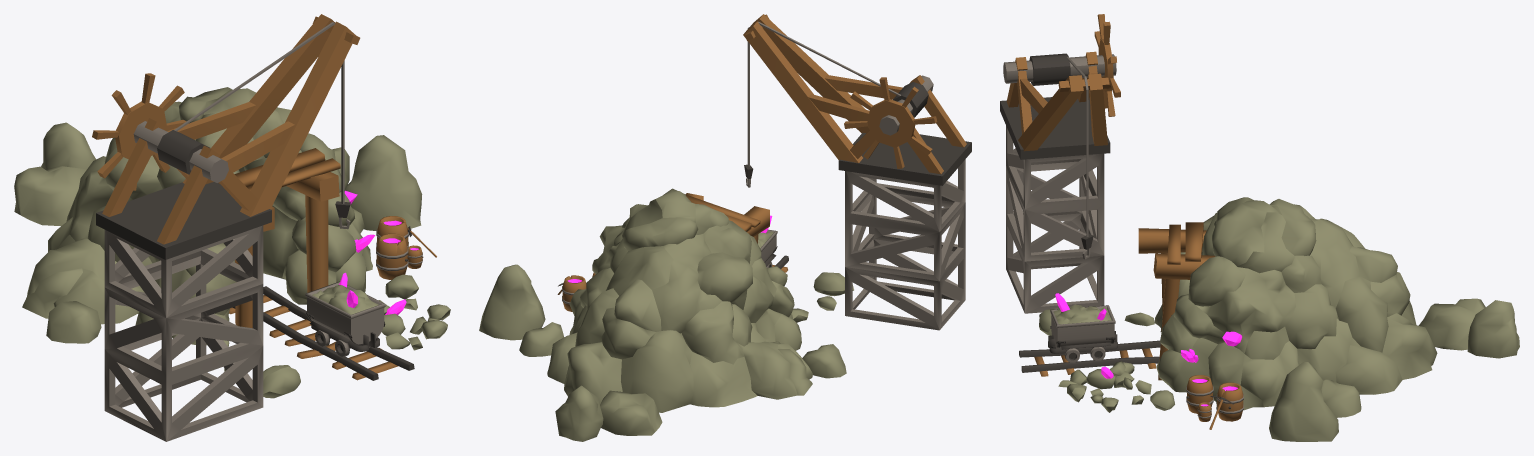
The model's file is cave.fbx.
3 views of the same model, side by side, from view 1: azimuth 30°, elevation 25°; view 2: azimuth 150°, elevation 25°; view 3: azimuth 270°, elevation 25° (orthographic). The views are drawn at different scales.
Parts seen in each view (by area): view 1: cave_crane, cave_entrance, cave_env, cave_shaft, barrel, crystals; view 2: cave_entrance, cave_crane, cave_env, cave_shaft, barrel; view 3: cave_entrance, cave_crane, cave_env, cave_shaft, barrel, crystals.
Part boxes in pixels (x1,y1,x2,y2): cave_crane: (92,14,360,441); cave_entrance: (14,87,450,398); cave_env: (218,148,414,380); cave_shaft: (305,272,385,356); barrel: (376,216,423,279); crystals: (344,190,406,314); cave_entrance: (479,188,853,441); cave_crane: (743,14,971,330); cave_env: (685,193,788,272); cave_shaft: (758,215,777,267); barrel: (562,272,595,311); cave_entrance: (1039,197,1519,441); cave_crane: (1000,14,1120,313); cave_env: (1019,222,1215,380); cave_shaft: (1048,293,1117,362); barrel: (1186,375,1243,421); crystals: (1101,331,1241,378).
Size of the model in its own units: 1202 by 892 by 1446.
